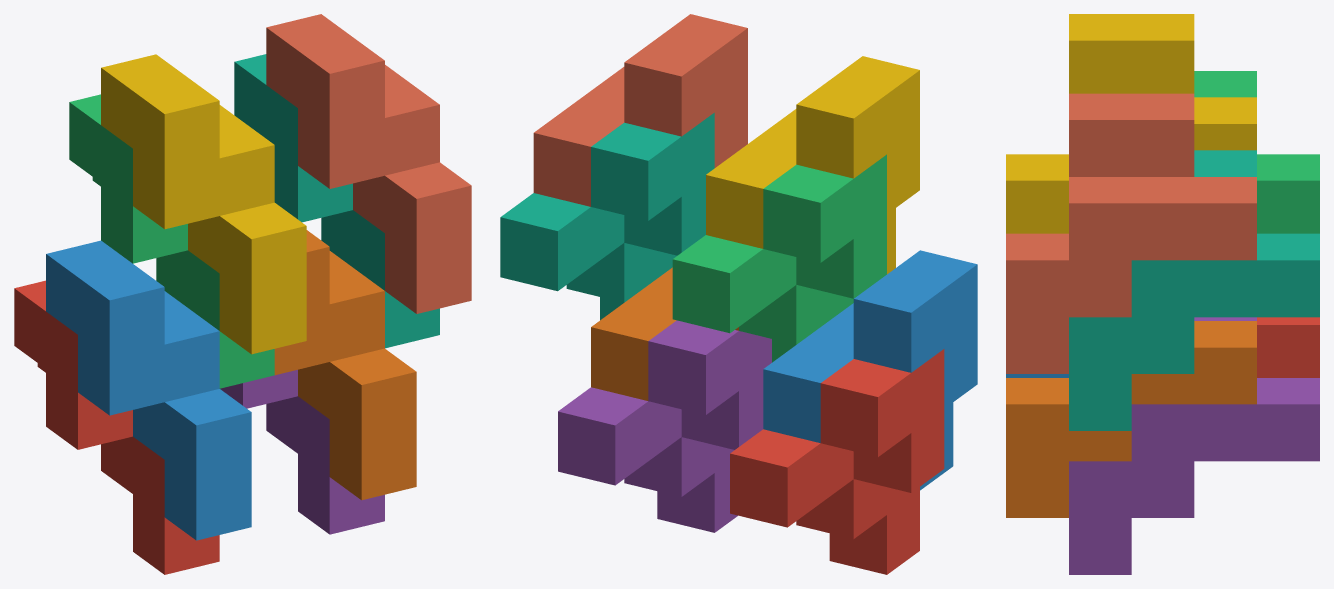
Rendered from tiling.obj.
3 views of the same model, side by side, from view 1: azimuth 30°, elevation 25°; view 2: azimuth 150°, elevation 25°; view 3: azimuth 270°, elevation 25° (orthographic). The views are drawn at different scales.
Parts seen in each view (by area): view 1: copy_1_domain_4, copy_1_domain_2, copy_1_domain_8, copy_1_domain_6, copy_1_domain_1, copy_1_domain_3, copy_1_domain_7, copy_1_domain_5; view 2: copy_1_domain_1, copy_1_domain_5, copy_1_domain_3, copy_1_domain_7, copy_1_domain_2, copy_1_domain_4, copy_1_domain_8, copy_1_domain_6; view 3: copy_1_domain_8, copy_1_domain_7, copy_1_domain_5, copy_1_domain_4, copy_1_domain_6, copy_1_domain_3, copy_1_domain_1.
Boxes of the visible parts, <box> form: copy_1_domain_4: <box>101,54,306,354</box>; copy_1_domain_2: <box>46,240,251,540</box>; copy_1_domain_8: <box>266,14,471,313</box>; copy_1_domain_6: <box>274,230,416,500</box>; copy_1_domain_1: <box>14,280,219,574</box>; copy_1_domain_3: <box>69,94,274,388</box>; copy_1_domain_7: <box>234,54,439,348</box>; copy_1_domain_5: <box>220,369,384,534</box>; copy_1_domain_1: <box>730,349,944,574</box>; copy_1_domain_5: <box>558,320,771,532</box>; copy_1_domain_3: <box>672,154,886,362</box>; copy_1_domain_7: <box>500,112,714,320</box>; copy_1_domain_2: <box>763,250,977,490</box>; copy_1_domain_4: <box>706,56,919,274</box>; copy_1_domain_8: <box>533,14,747,206</box>; copy_1_domain_6: <box>591,267,738,400</box>; copy_1_domain_8: <box>1006,93,1256,373</box>; copy_1_domain_7: <box>1069,150,1319,430</box>; copy_1_domain_5: <box>1069,317,1319,574</box>; copy_1_domain_4: <box>1006,14,1256,233</box>; copy_1_domain_6: <box>1006,321,1256,517</box>; copy_1_domain_3: <box>1194,71,1319,233</box>; copy_1_domain_1: <box>1257,317,1319,377</box>.
Bounding box in the file's own units: 6 × 8 × 5.
